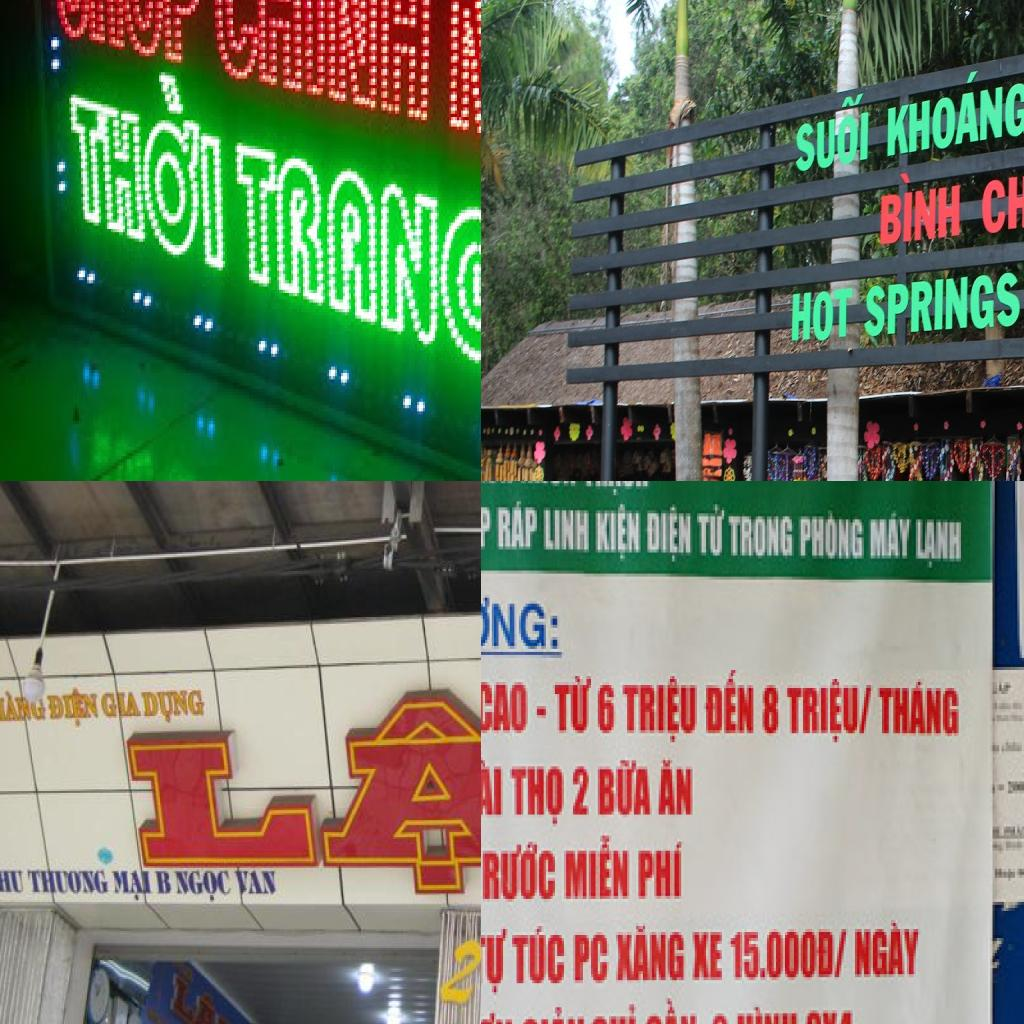text: (119, 654, 481, 876), (233, 133, 481, 382), (67, 56, 233, 287), (211, 0, 437, 126), (884, 59, 1024, 158), (51, 0, 207, 78), (863, 270, 1023, 342), (877, 161, 963, 247), (791, 90, 873, 174), (731, 923, 839, 983), (787, 670, 864, 751), (616, 670, 699, 742), (607, 920, 690, 992), (873, 676, 961, 742), (559, 833, 634, 908), (481, 588, 564, 655), (481, 835, 557, 908), (506, 751, 568, 836), (848, 917, 929, 980), (702, 661, 760, 748), (794, 504, 868, 568), (162, 965, 241, 1024), (724, 508, 799, 570), (593, 751, 654, 824), (636, 833, 693, 908), (911, 507, 968, 580), (787, 283, 855, 342), (591, 498, 645, 571), (643, 501, 697, 571), (979, 148, 1024, 231), (514, 923, 566, 992), (652, 748, 699, 824), (481, 672, 534, 739), (436, 931, 481, 1009), (548, 667, 596, 739), (490, 496, 542, 558), (868, 508, 916, 570), (568, 926, 612, 992), (481, 916, 514, 1001), (544, 502, 593, 558), (46, 686, 102, 732), (688, 920, 726, 986), (138, 687, 206, 723), (26, 866, 110, 895), (697, 495, 731, 565), (174, 868, 234, 902), (733, 995, 803, 1024), (518, 998, 593, 1024), (642, 995, 708, 1024), (826, 917, 852, 986), (566, 760, 593, 820), (760, 676, 785, 739), (481, 757, 505, 820), (579, 481, 654, 501), (110, 868, 156, 900), (0, 692, 48, 722), (598, 670, 618, 742), (234, 868, 280, 899), (803, 1001, 861, 1024), (101, 691, 145, 721), (857, 676, 875, 745), (591, 1001, 643, 1024), (0, 866, 25, 896), (481, 492, 491, 558), (154, 870, 174, 897), (706, 1004, 733, 1024)
